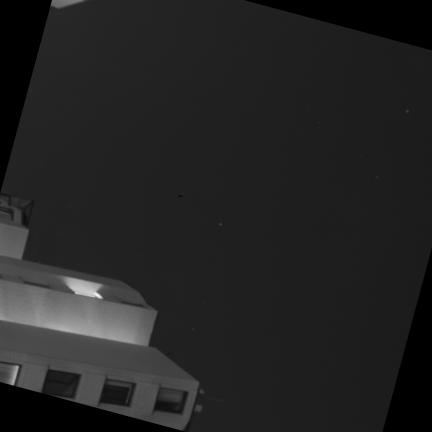Shahed: (176, 192, 184, 199)
